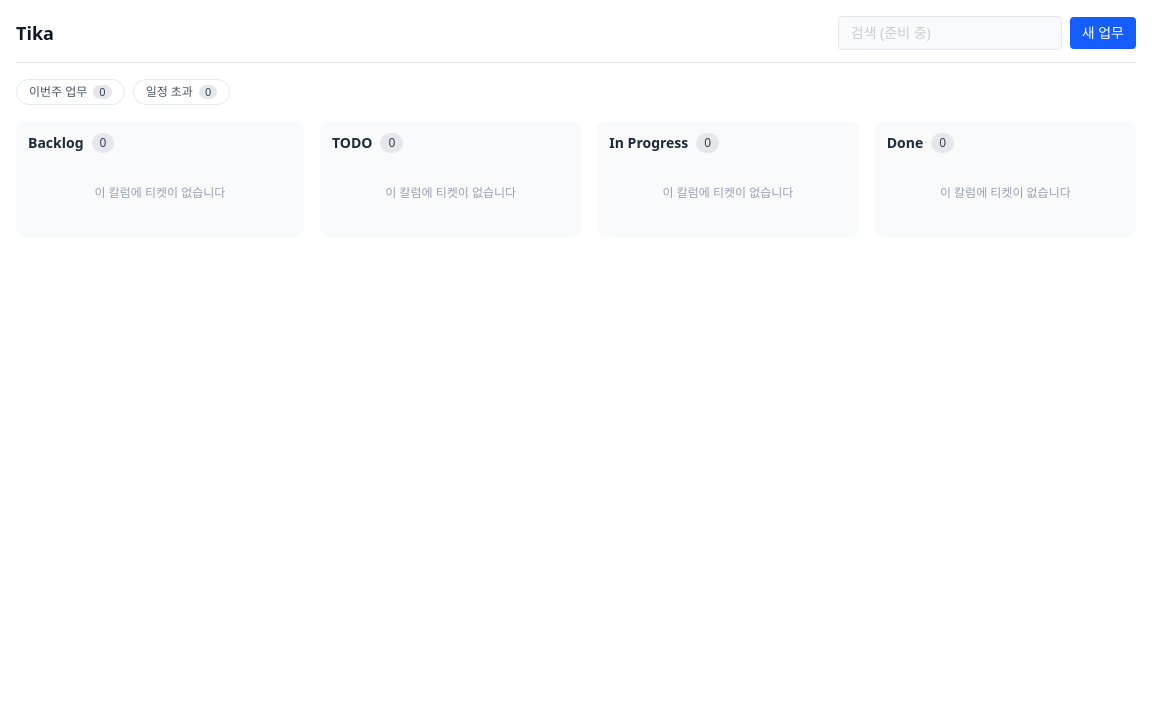
Test case: BoardContainer › "새 업무" 버튼을 누르면 생성 폼이 열린다
Expected: the field labelled "제목" is not shown
Click the button "새 업무". click: (1103, 33)
box: [1070,17,1136,49]
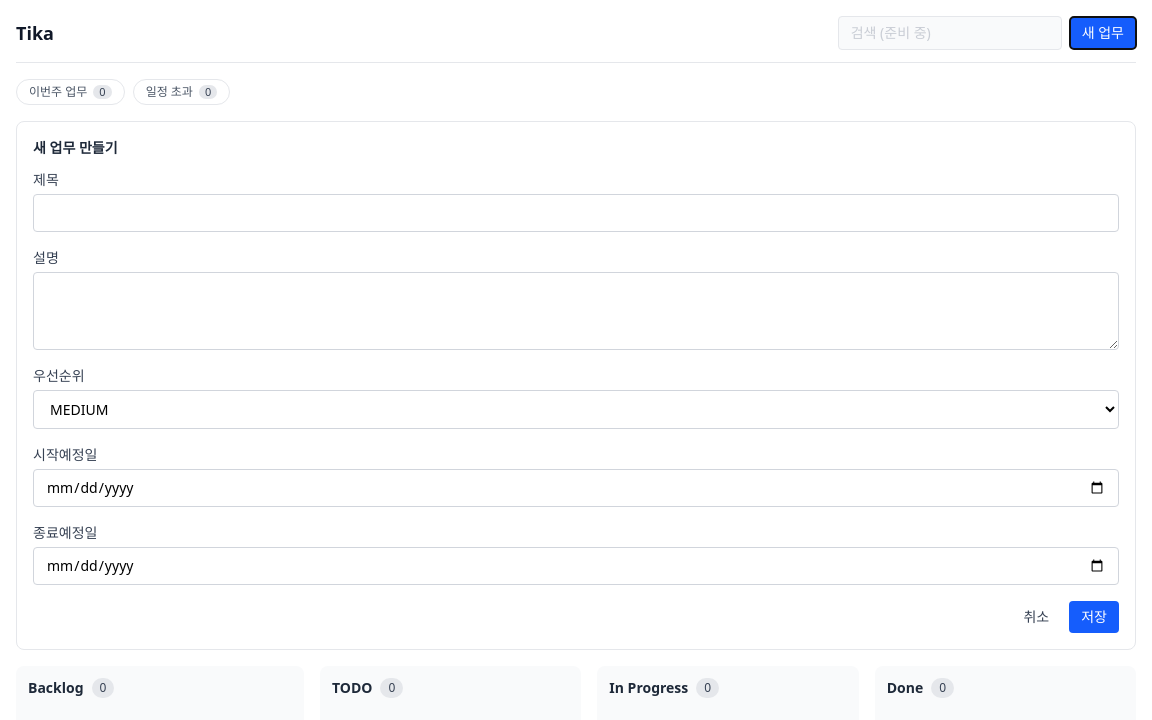
Result: the field labelled "제목" is shown at [33,194,1119,232]
